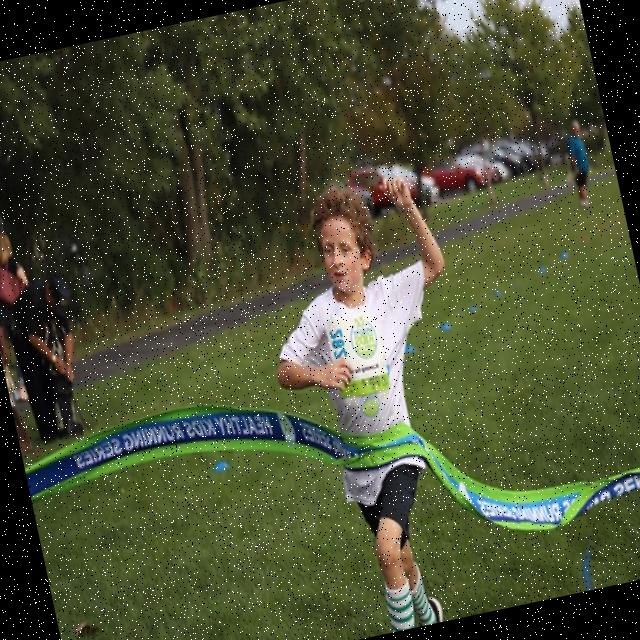Person: (239, 165, 516, 640), (0, 271, 100, 444), (560, 117, 597, 211)
